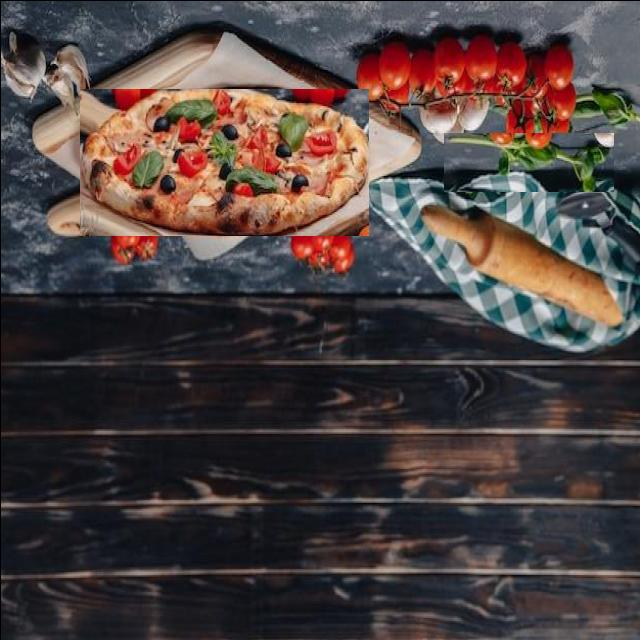basil: (443, 130, 613, 190), (445, 132, 558, 190), (568, 84, 640, 132), (162, 194, 216, 227), (277, 172, 308, 215), (226, 131, 279, 156), (131, 134, 162, 172), (212, 156, 234, 192)
olive: (289, 134, 308, 150), (220, 184, 238, 200), (158, 131, 174, 149), (274, 166, 291, 181), (151, 191, 168, 206), (219, 145, 230, 160), (171, 163, 182, 177)
pizza: (79, 88, 368, 235)
